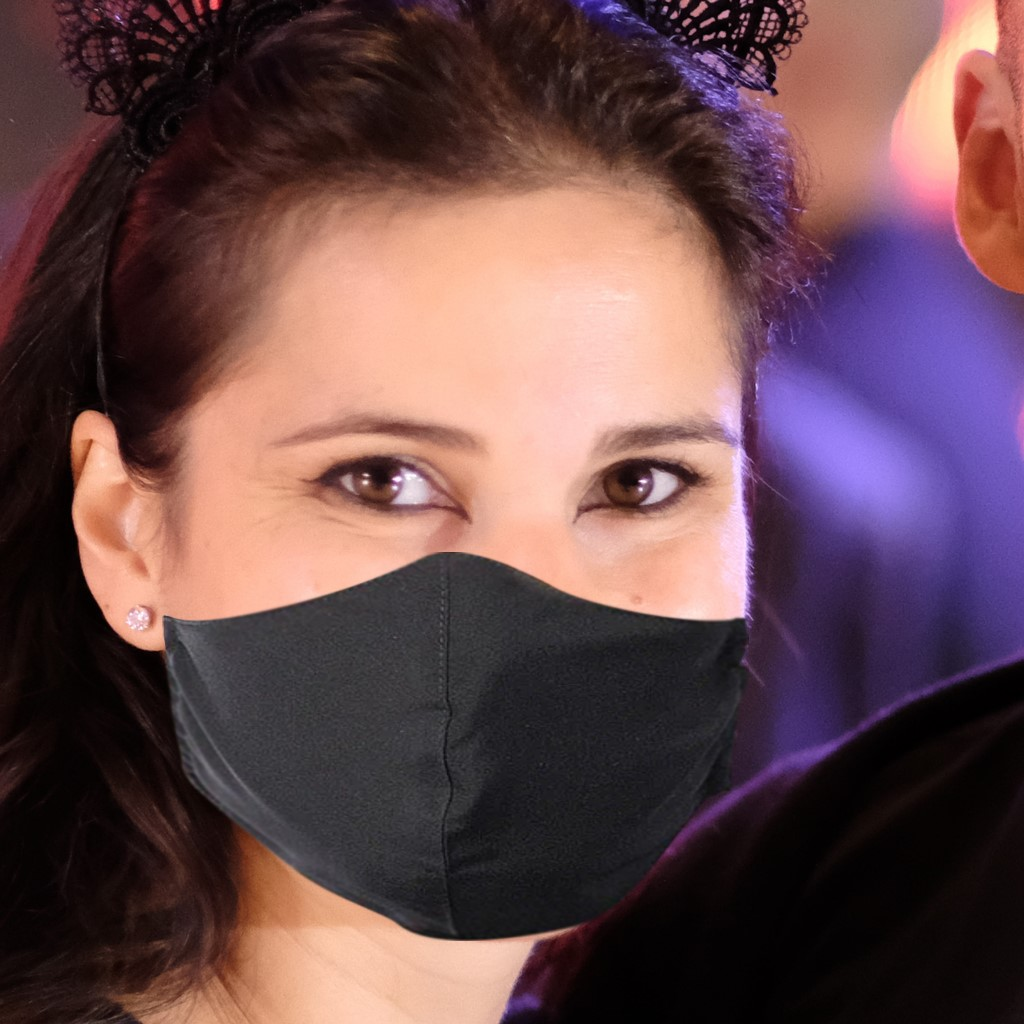con_mascara: (107, 135, 758, 934)
